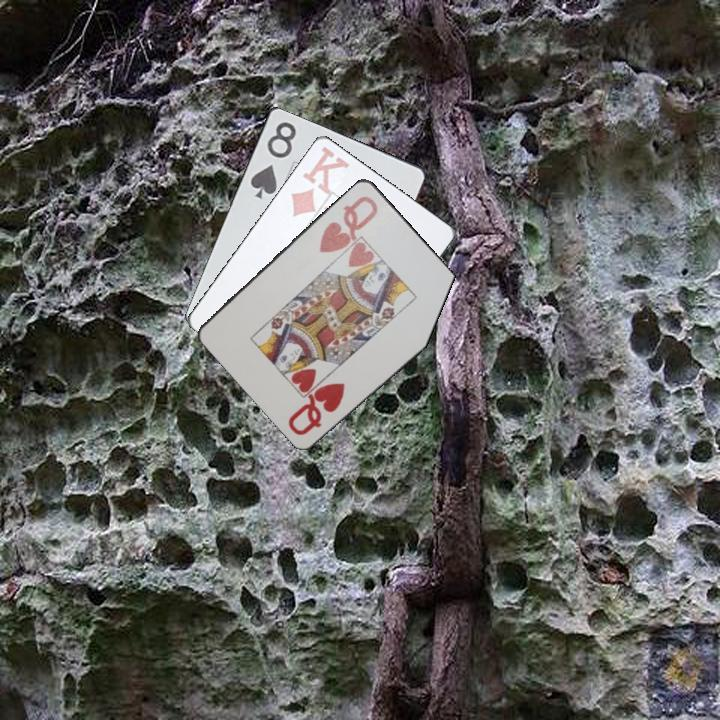8s: (246, 118, 299, 201)
Kd: (287, 142, 350, 219)
Qh: (315, 192, 381, 255), (284, 379, 348, 438)
